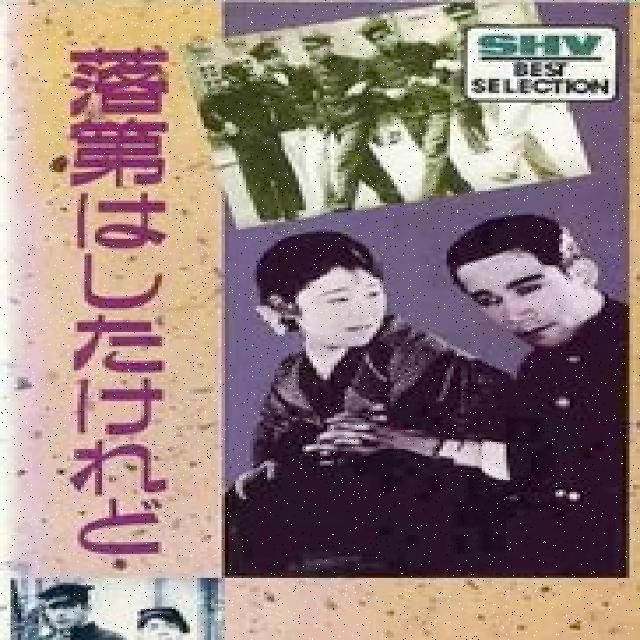movie-judul: (45, 48, 197, 566)
picture: (219, 6, 633, 575)
